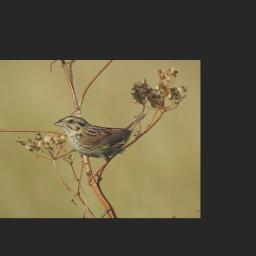Sparrow: (52, 108, 152, 186)
